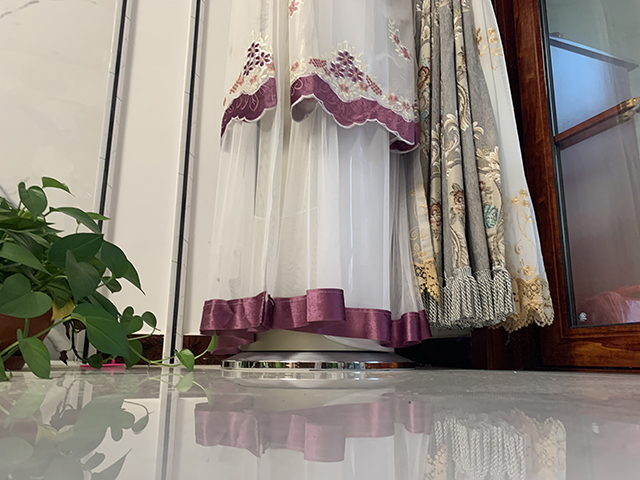curtain: (189, 1, 424, 334), (406, 1, 555, 335)
